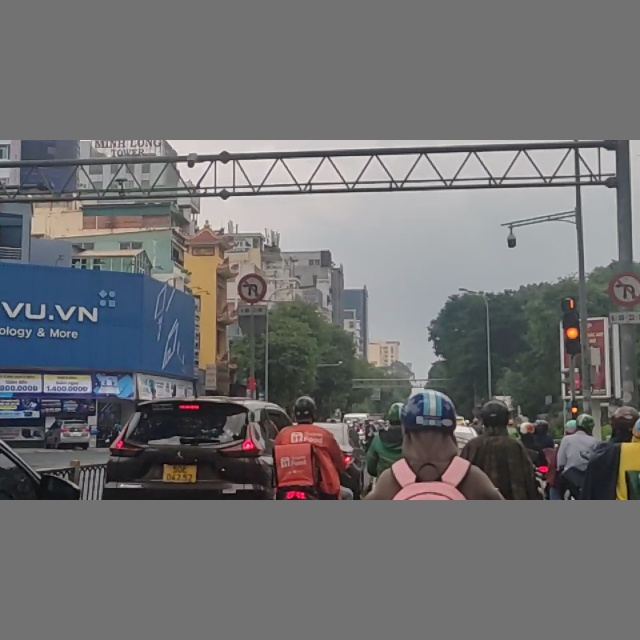P.124c: (237, 269, 268, 305), (611, 272, 640, 305)
